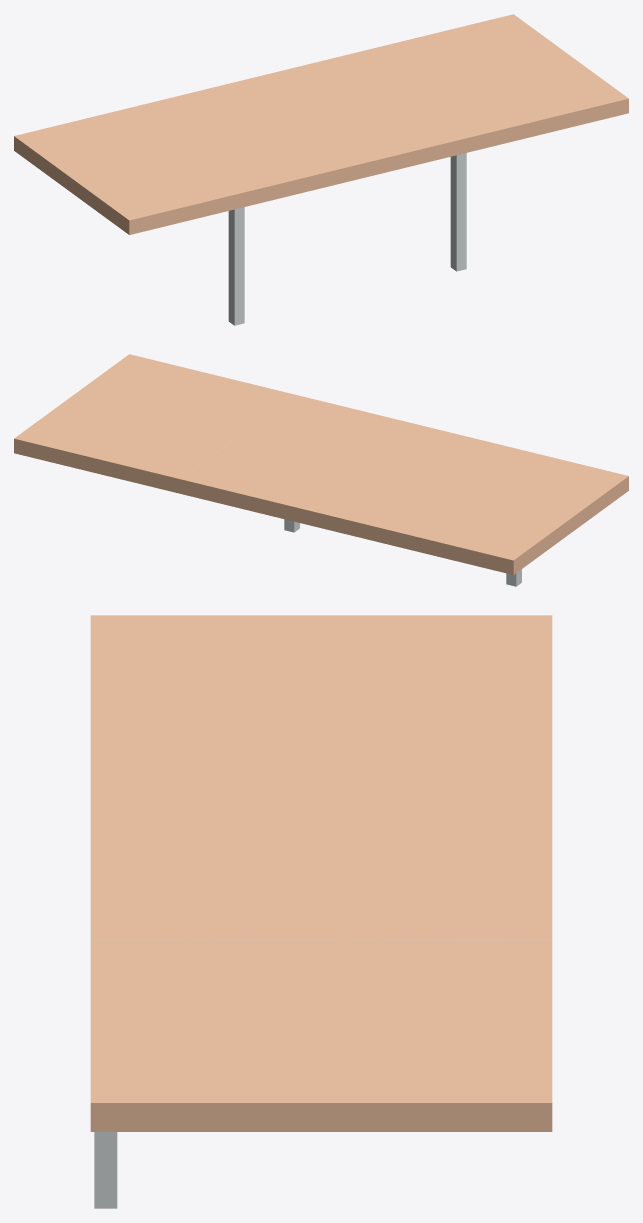
Rendered from desk-row-d15.glb.
3 renders of one model, top to bottom at view 1: azimuth 30°, elevation 25°; view 2: azimuth 150°, elevation 25°; view 3: azimuth 270°, elevation 25°, orthographic. The views are drawn at different scales.
Visible parts, largest first — view 1: desktop, shared-corner-leg (×2); view 2: desktop; view 3: desktop, shared-corner-leg.
Part boxes in pixels (x1,y1,x2,y2): desktop: [14, 14, 628, 234]; shared-corner-leg (×2): [228, 153, 466, 325]; desktop: [14, 354, 628, 574]; desktop: [90, 615, 552, 1131]; shared-corner-leg: [94, 1132, 117, 1208].
Size of the model in its own units: 5 by 1.26 by 2.
1 material, 1 textured.
